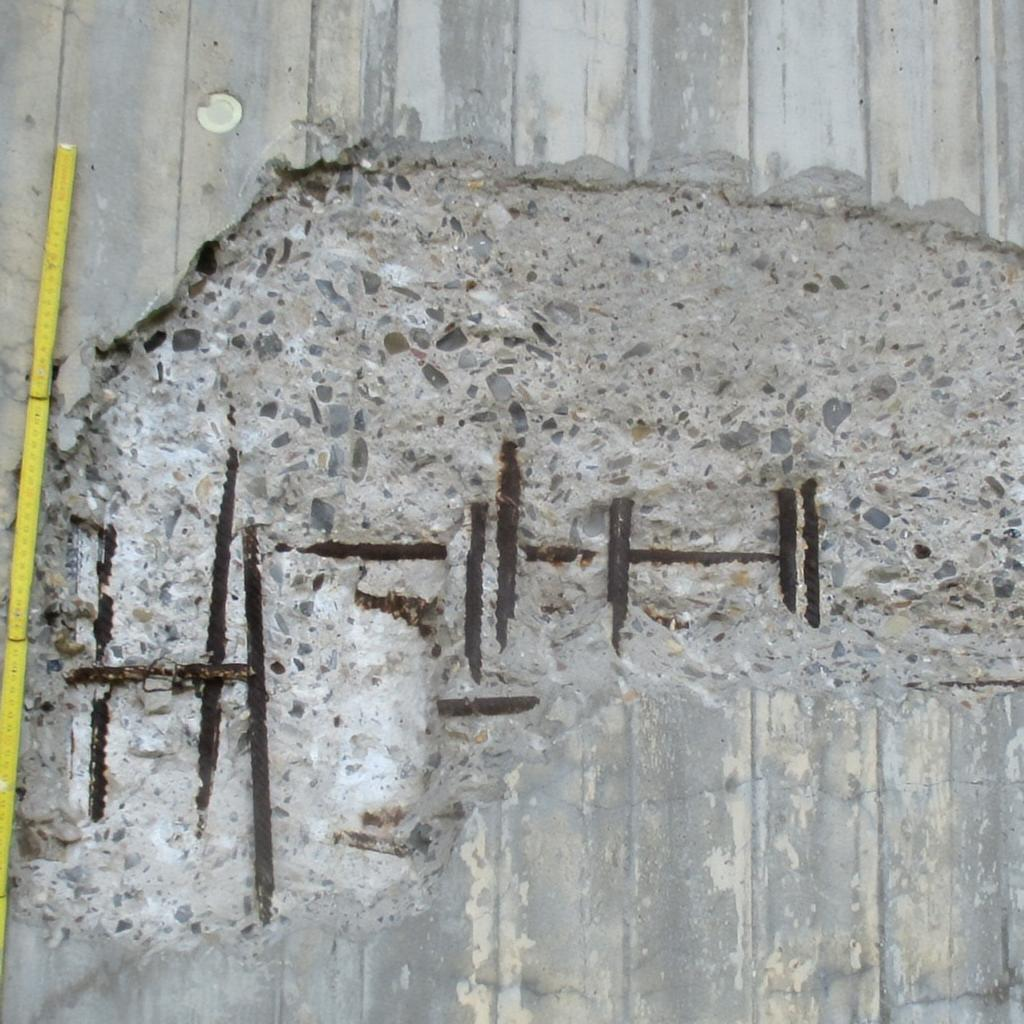exposed_rebar: (68, 448, 274, 923), (608, 488, 798, 647), (496, 440, 522, 649), (464, 502, 488, 681), (800, 478, 820, 628), (298, 542, 446, 561), (90, 694, 110, 819), (436, 696, 540, 716), (524, 546, 596, 563)
spalling: (14, 152, 1024, 942)
